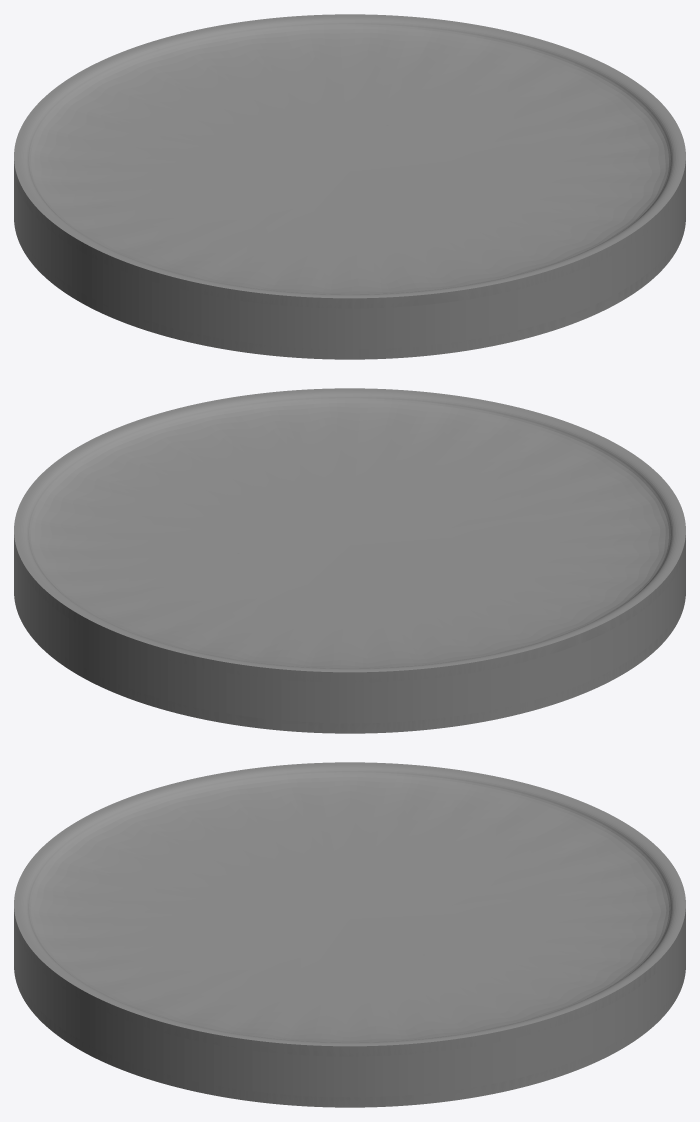
Rendered from medal.obj.
3 views of the same model, one above another, from view 1: azimuth 30°, elevation 25°; view 2: azimuth 150°, elevation 25°; view 3: azimuth 270°, elevation 25° (orthographic).
Parts seen in each view (by area): view 1: 円柱; view 2: 円柱; view 3: 円柱.
Boxes of the visible parts, <box> form: 円柱: <box>14,14,685,359</box>; 円柱: <box>14,388,685,733</box>; 円柱: <box>14,762,685,1107</box>.
Size of the model in its own units: 1.99 by 0.2 by 1.99.
1 material, 1 textured.
